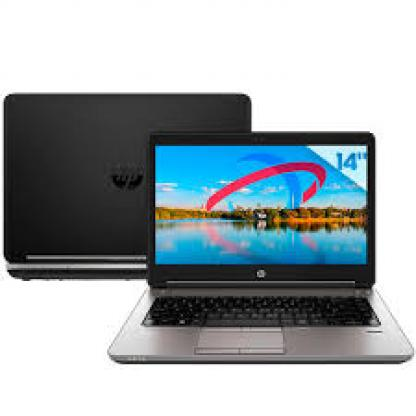NOTEBOOK: (143, 129, 416, 393)
